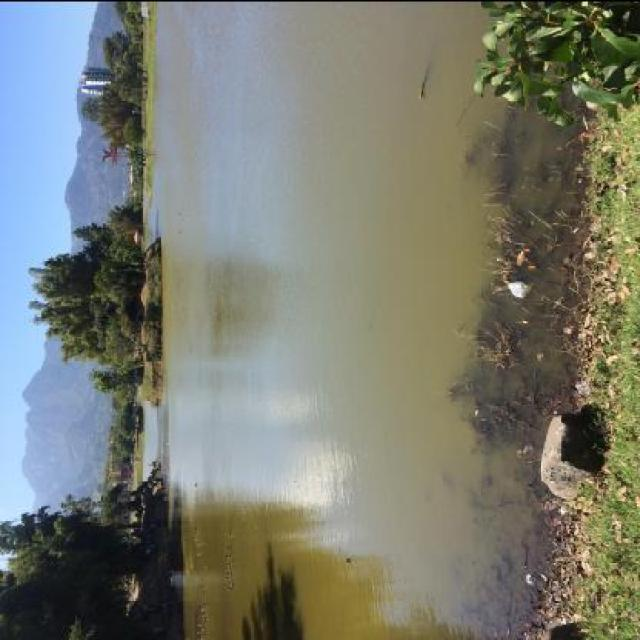plastic: (508, 280, 527, 297)
